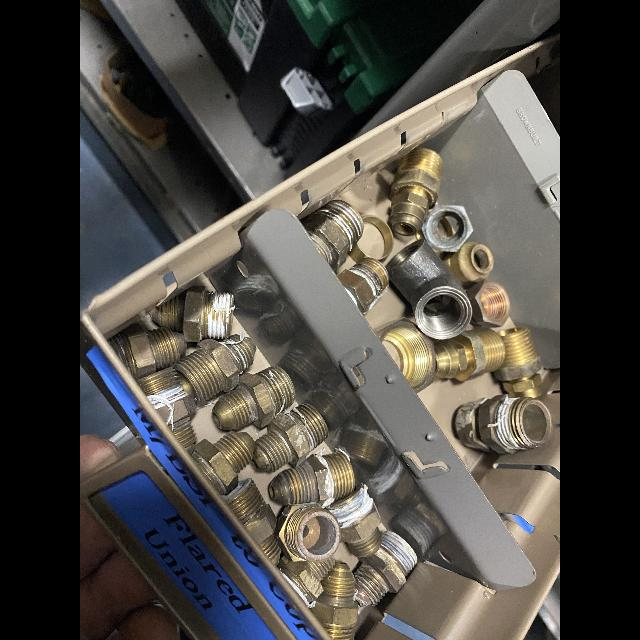Brass: (453, 394, 552, 454), (173, 336, 256, 404), (138, 365, 196, 456), (222, 477, 281, 566), (253, 403, 329, 472), (212, 367, 295, 430), (149, 286, 235, 342), (268, 452, 354, 507), (355, 530, 417, 606), (389, 149, 443, 236), (374, 317, 435, 393), (302, 200, 363, 273), (327, 480, 381, 559), (192, 431, 256, 494), (274, 502, 341, 561), (310, 560, 359, 640), (110, 328, 187, 378), (435, 328, 505, 382), (494, 327, 542, 398), (276, 555, 336, 609), (338, 258, 389, 313), (421, 205, 473, 252), (443, 242, 494, 285), (362, 216, 394, 263), (349, 244, 369, 263)
Copper: (467, 282, 510, 327)
Ferrous Metal: (387, 239, 472, 340)
